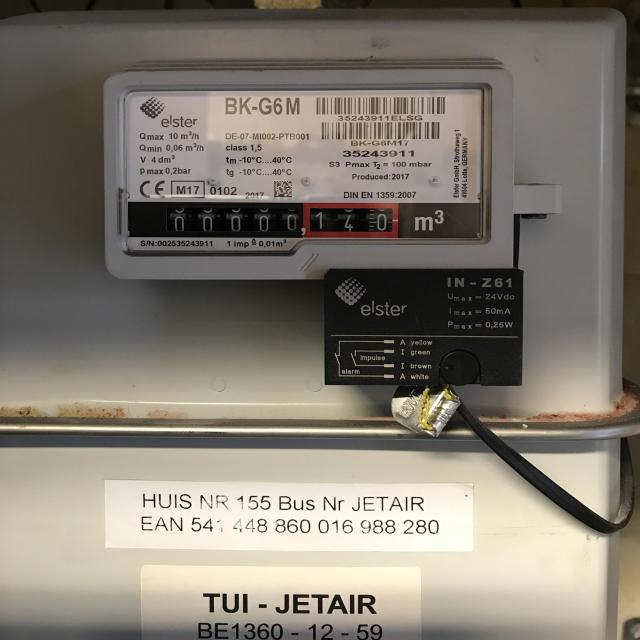gaz_meter: (117, 87, 486, 248)
indication: (126, 201, 400, 239)
